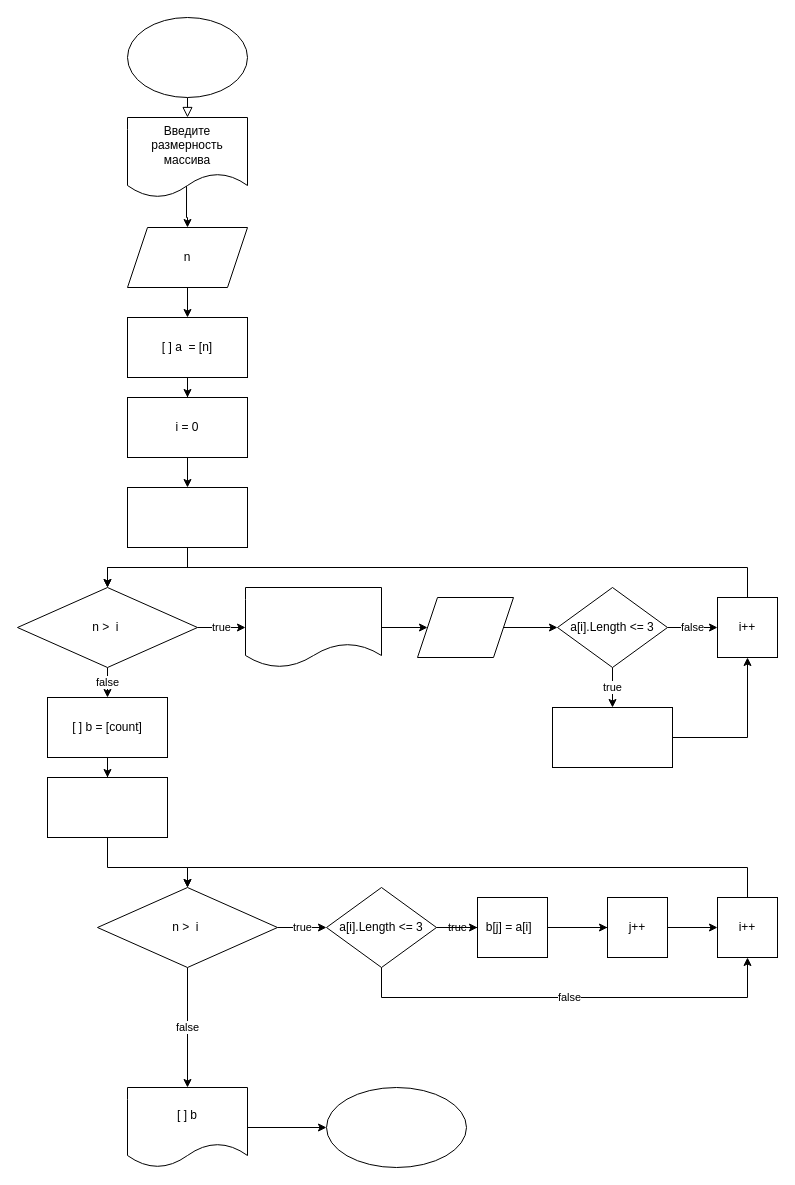
The diagram is 795 pixels wide and 1185 high, and some of its shapes have lost their labels. Here are the shapes that lost their labels. From the top down, the box of each, then its label:
(126, 16, 248, 98): Start
(126, 486, 248, 548): count = 0
(244, 586, 382, 668): Введите значение a [i]
(416, 596, 514, 658): a[i]
(552, 706, 672, 768): count++
(46, 776, 168, 838): i = 0 j = 0
(326, 1086, 466, 1168): END
